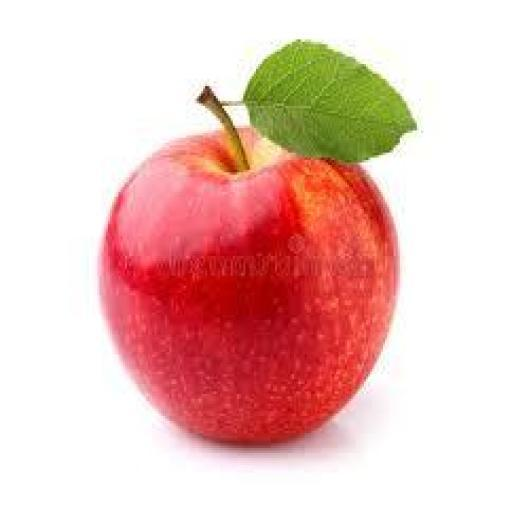apple: (100, 128, 397, 443)
